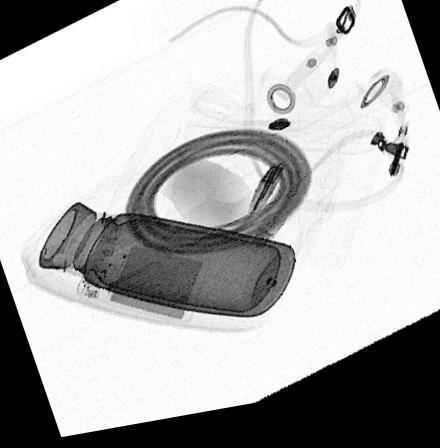Powerbank: (74, 237, 212, 334)
